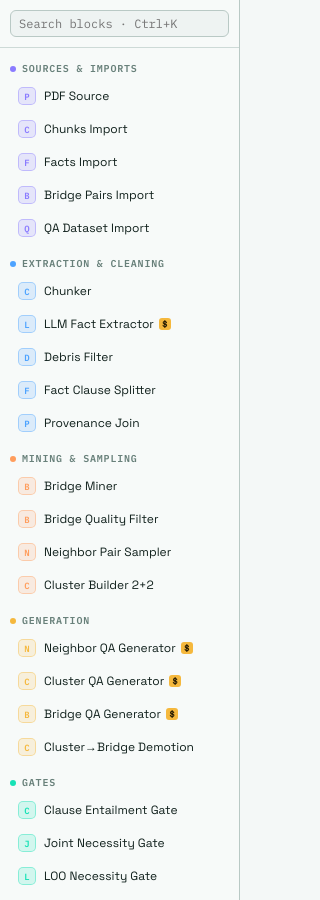
Test: Palette › filters blocks by search query
Type "cluster" into the search field labelled "Search blocks". click: (120, 24)
box: [10, 10, 229, 37]
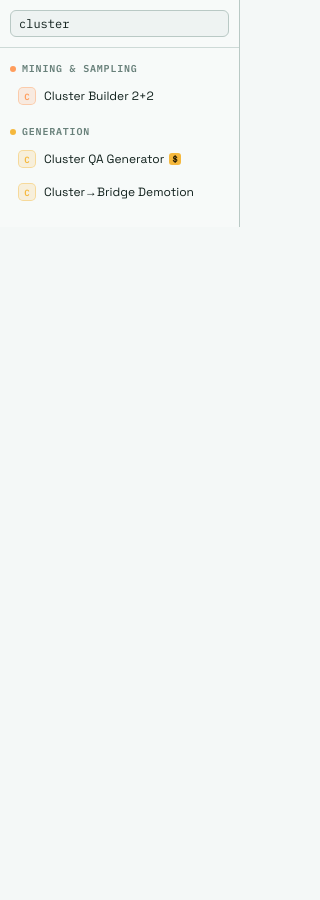
Expected: the text "Cluster Builder 2+2" is shown, [44, 88, 154, 104]
Now the button "PDF Source" is gone
